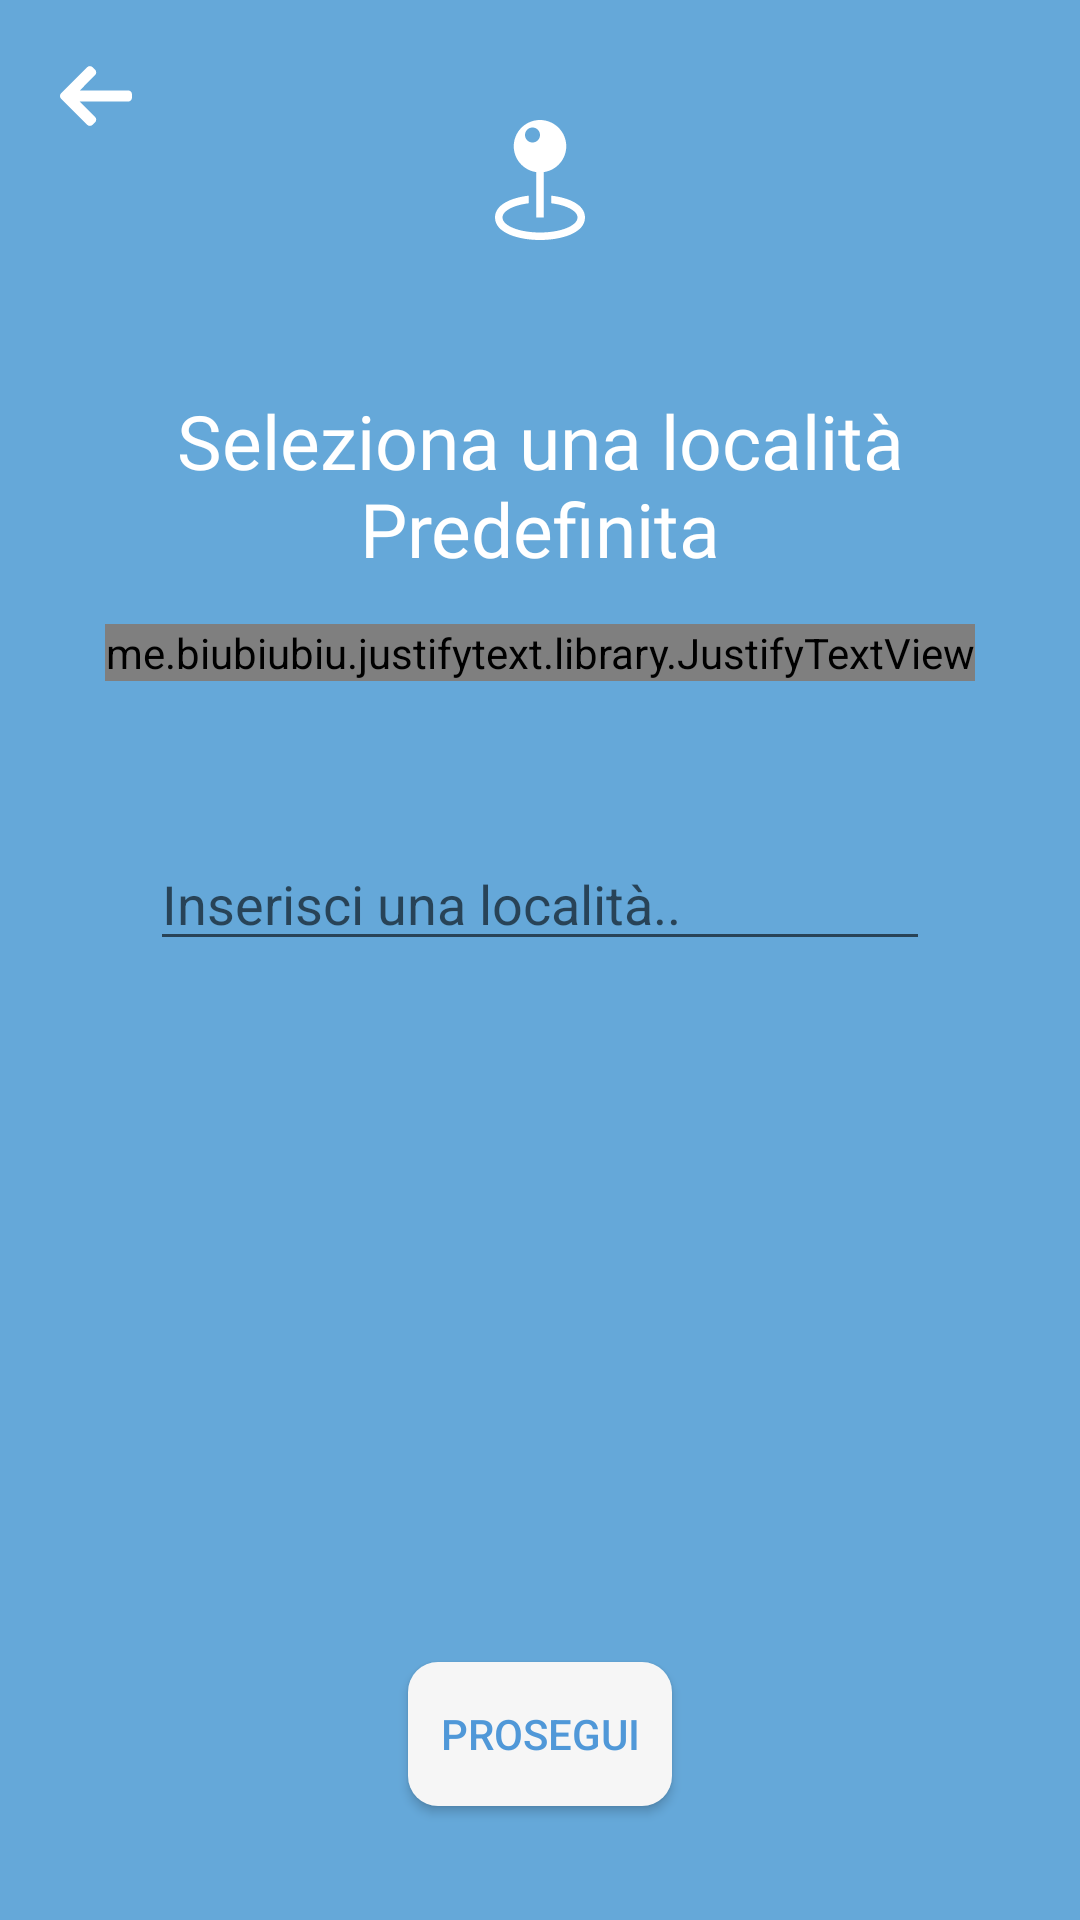

Where icons sit on this 1080×1920 app screen, as (x1, y1, x2, y2):
arrow back: (60, 66, 132, 126)
map picker: (495, 120, 585, 240)
